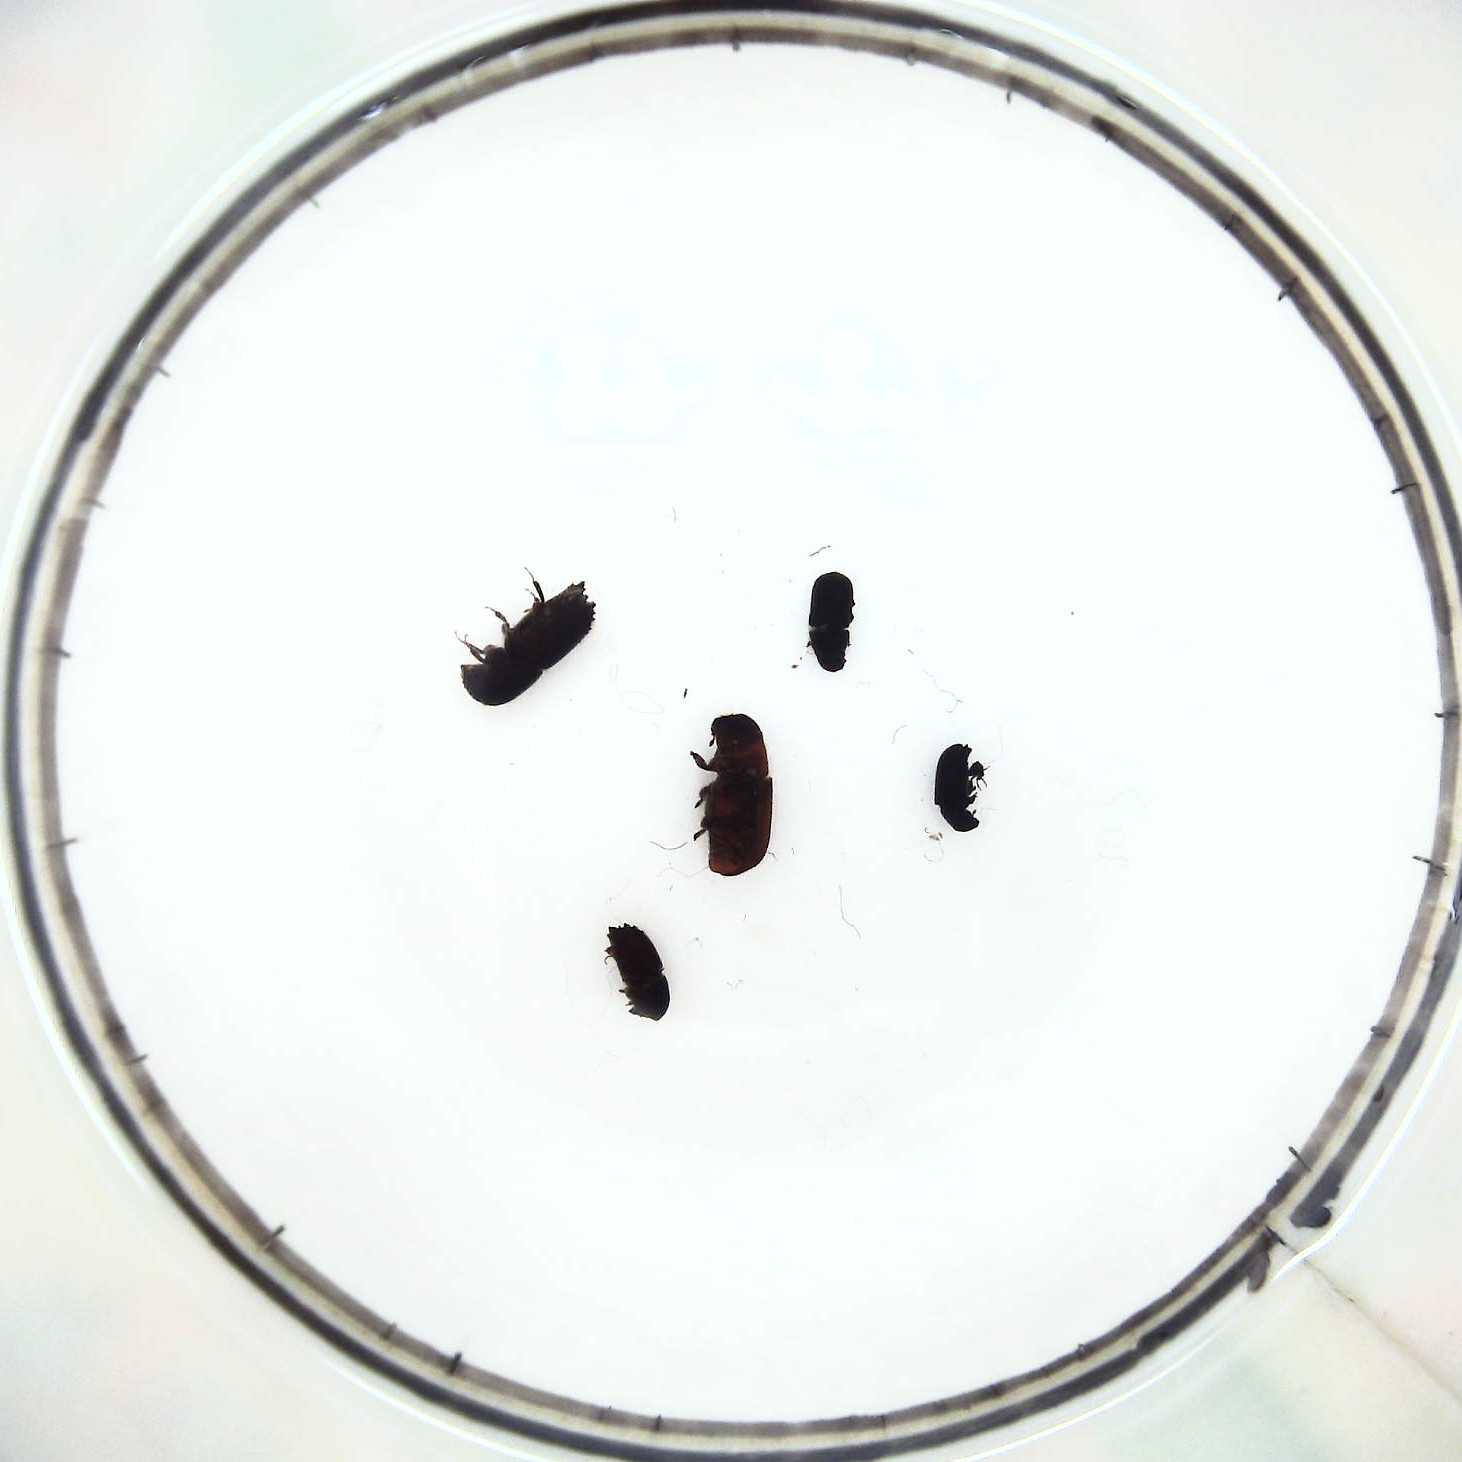Boerner: (461, 586, 594, 704)
Leconte: (700, 714, 773, 876)
Linnaeus: (602, 918, 675, 1024)
armandi: (809, 572, 858, 672)
coleoptera: (932, 736, 989, 831)
